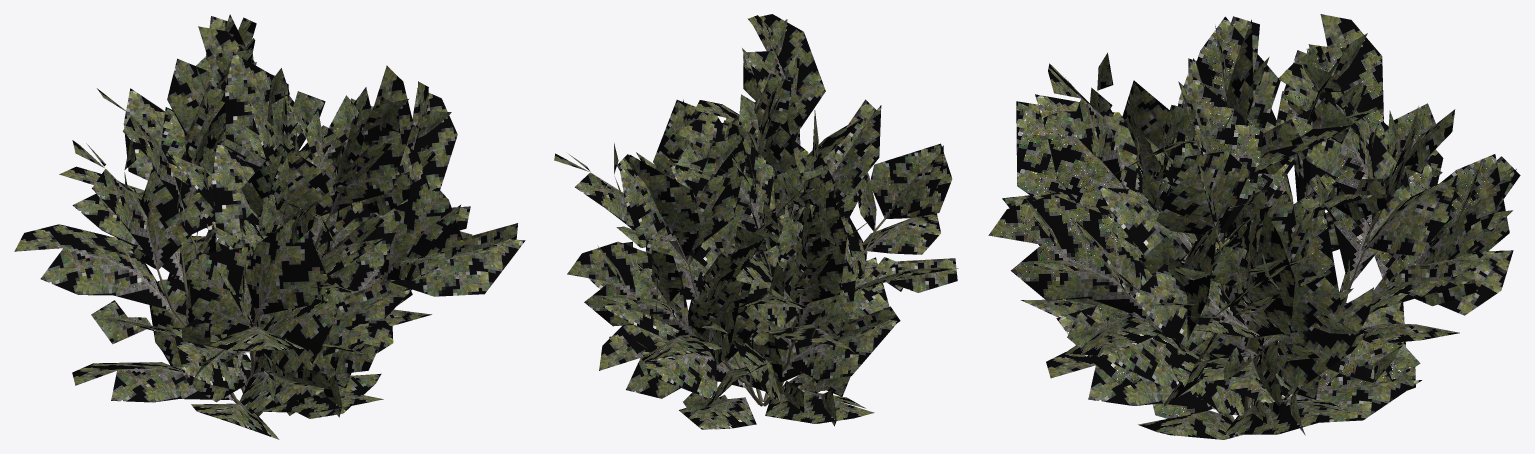
Rendered from bush_spicebush_d.glb.
3 views of the same model, side by side, from view 1: azimuth 30°, elevation 25°; view 2: azimuth 150°, elevation 25°; view 3: azimuth 270°, elevation 25° (orthographic). The views are drawn at different scales.
Visible parts, largest first — view 1: bush_spicebush_d_LOD0; view 2: bush_spicebush_d_LOD0; view 3: bush_spicebush_d_LOD0.
Boxes of the visible parts, box(x1,y1,x2,y2) form: bush_spicebush_d_LOD0: box(14, 14, 525, 439); bush_spicebush_d_LOD0: box(554, 14, 958, 429); bush_spicebush_d_LOD0: box(988, 14, 1520, 439).
Bounding box in the file's own units: 6.08 × 5.68 × 6.6.
Materials: 1 (1 with a texture image).
